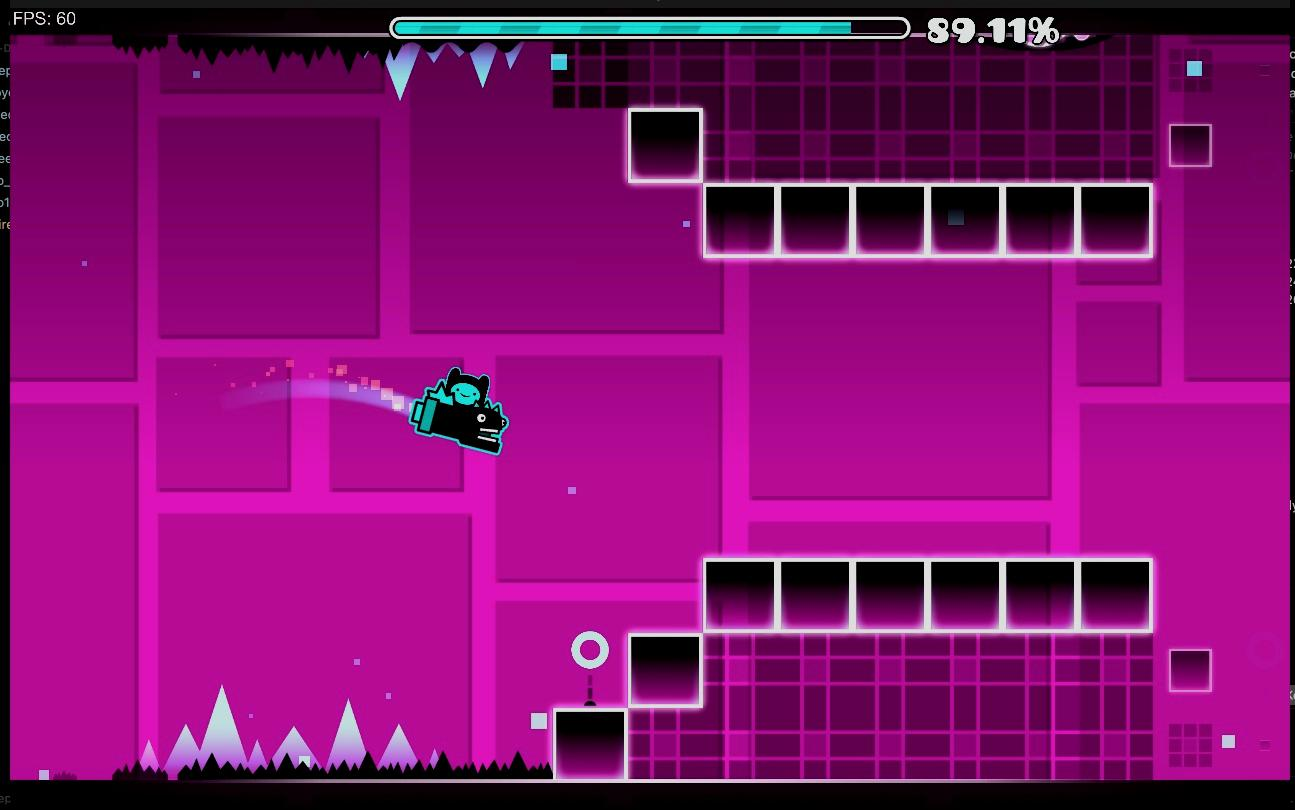platform: (713, 561, 1148, 632)
spaceship: (409, 367, 507, 454)
spike: (113, 689, 552, 778), (114, 36, 524, 98)
